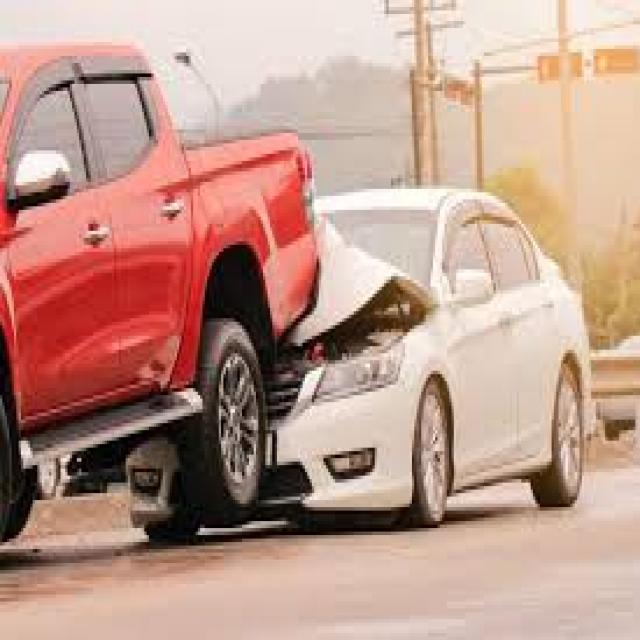accident: (90, 44, 484, 543)
